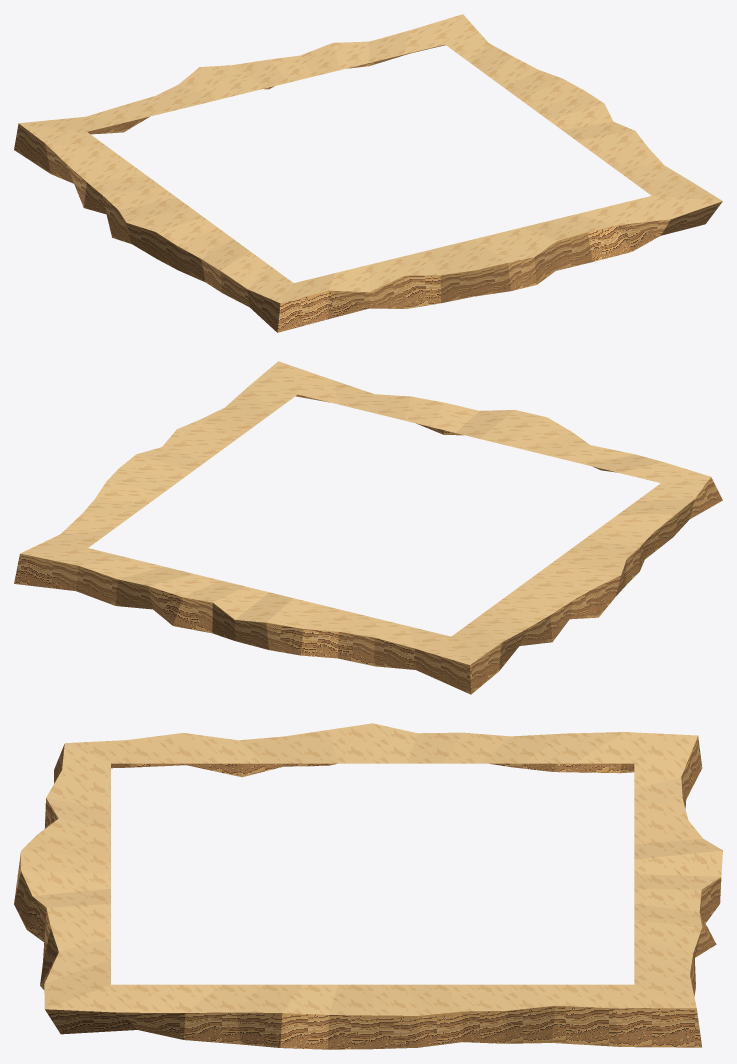
File: entorno.glb
The picture shows the model from 3 angles, top to bottom: view 1: azimuth 30°, elevation 25°; view 2: azimuth 150°, elevation 25°; view 3: azimuth 270°, elevation 25°; orthographic projection. The views are drawn at different scales.
Visible parts, largest first — view 1: deserto_entorno; view 2: deserto_entorno; view 3: deserto_entorno.
Boxes of the visible parts, box(x1,y1,x2,y2) form: deserto_entorno: box(14, 14, 722, 332); deserto_entorno: box(14, 361, 722, 694); deserto_entorno: box(14, 723, 722, 1049).
Bounding box in the file's own units: 16.31 × 1.06 × 16.52.
Materials: 2 (2 with a texture image).
